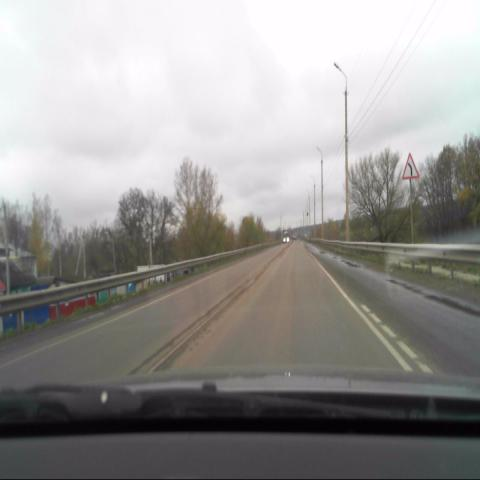1_11_1: (402, 152, 419, 181)
